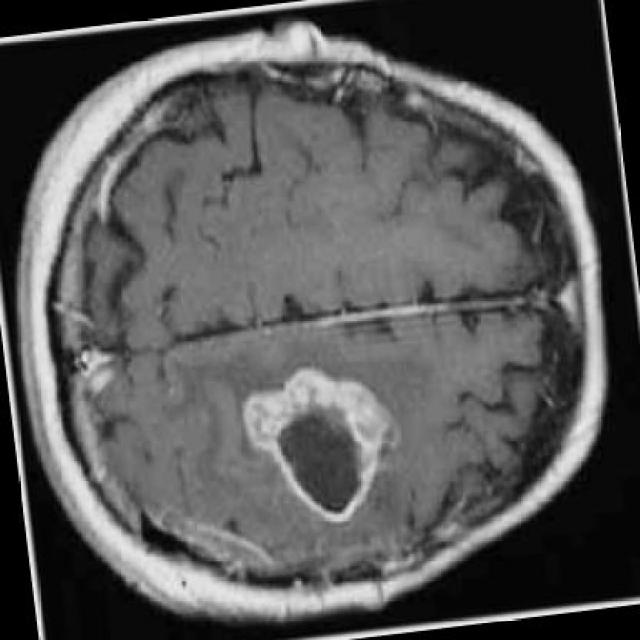Brain-Tumor: (232, 351, 414, 540)
